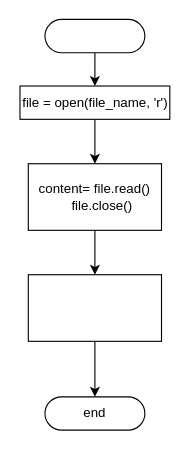
This 189x450 diagram has some shape labels left out. The centre of each missing label's shape, as x and y in pixels:
begin: pixel 94 35
return res: pixel 94 307
